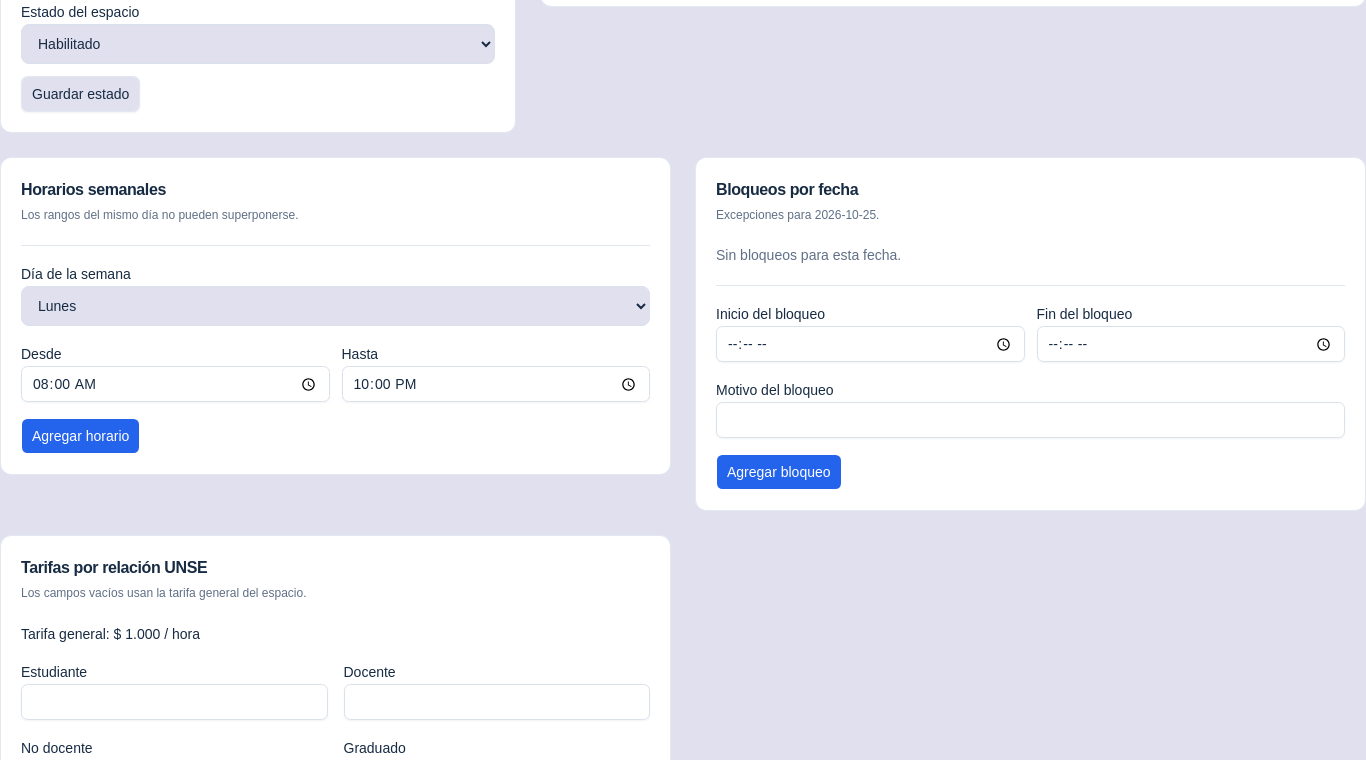
it: Incrementos 2 y 3 › conserva el horario y muestra el error cuando la API rechaza el cambio
The image size is (1366, 760).
(page scrolled)
Replace the text in the time field labelled "Desde" with "09:00": (175, 384) left=21, top=366, right=330, bottom=402
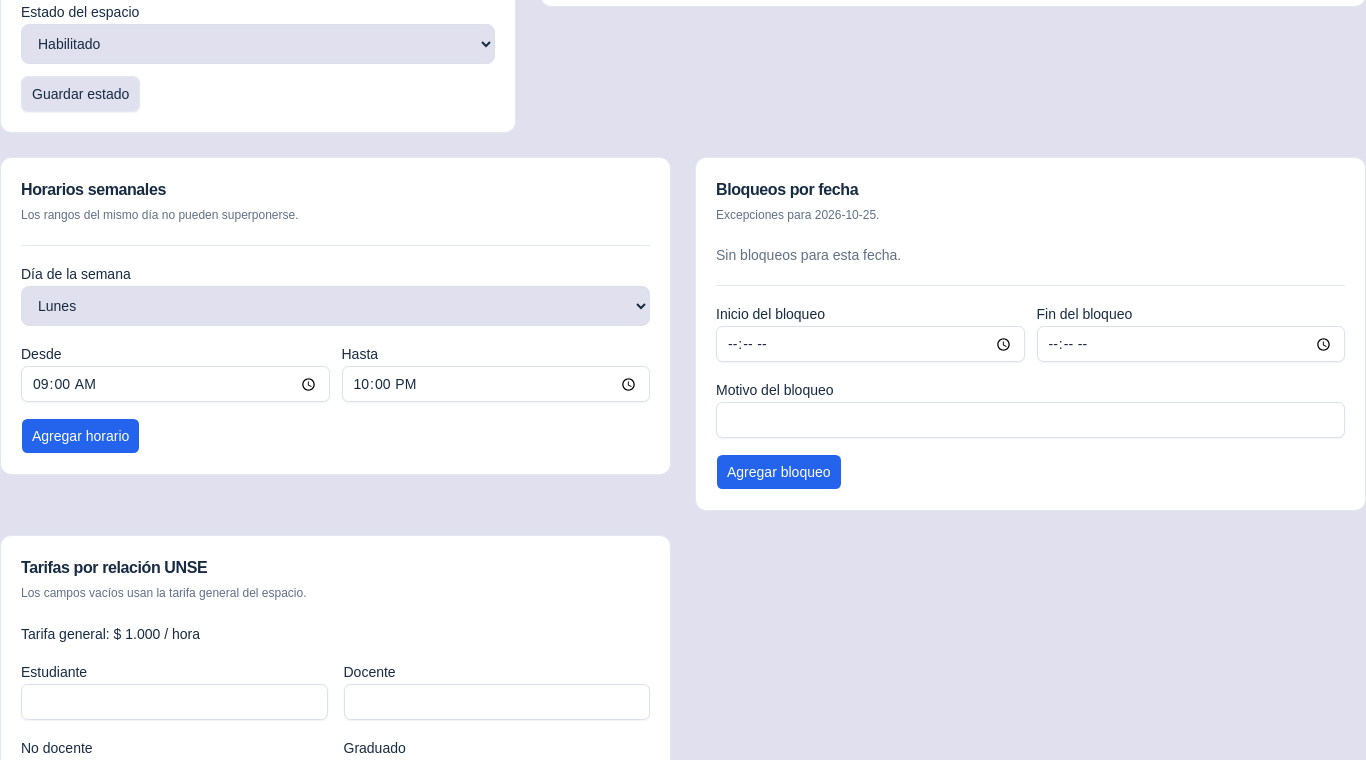
Click the button "Agregar horario": (81, 436) left=21, top=418, right=140, bottom=454
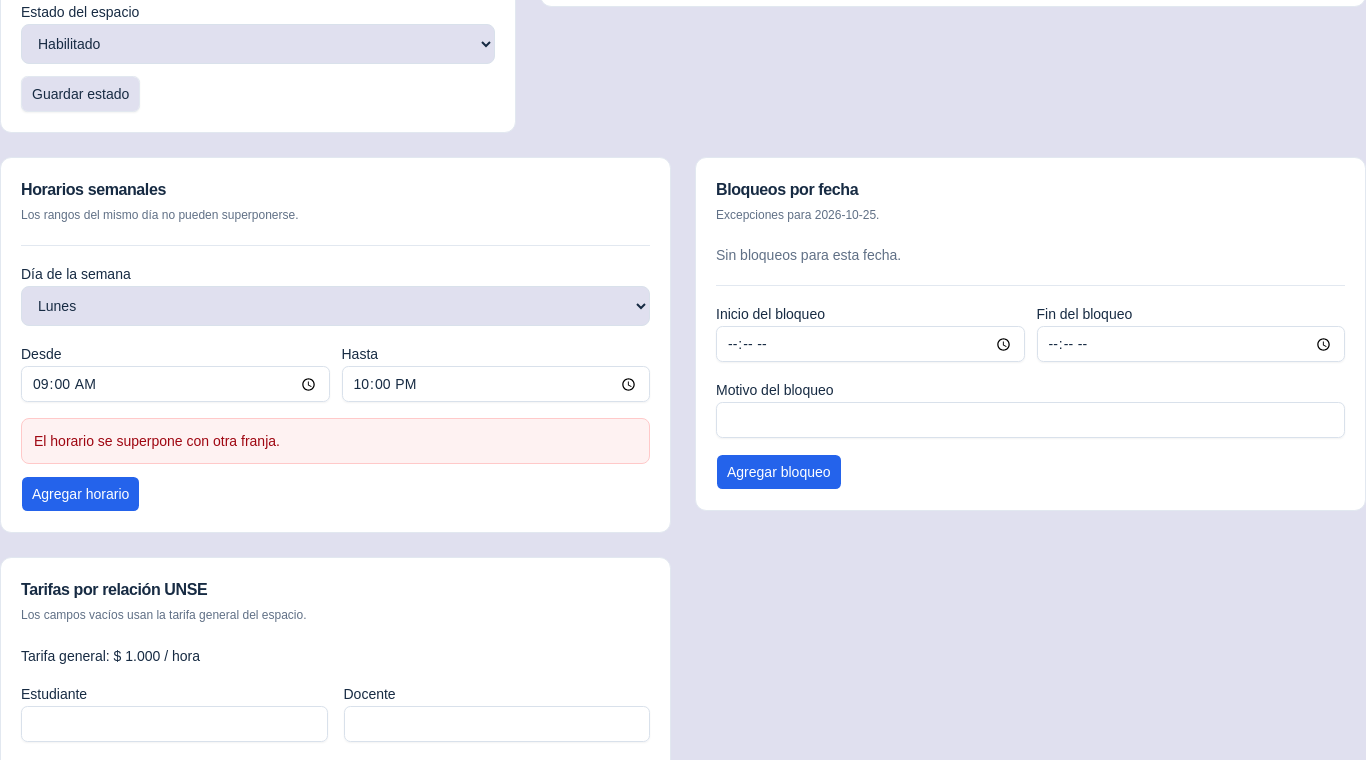
Now the message shows "El horario se superpone", box left=34, top=433, right=280, bottom=449
